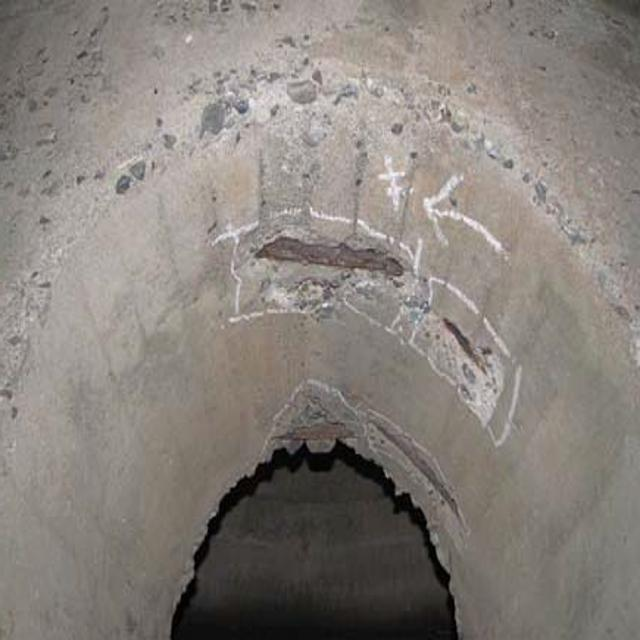spalling: (227, 196, 553, 436)
